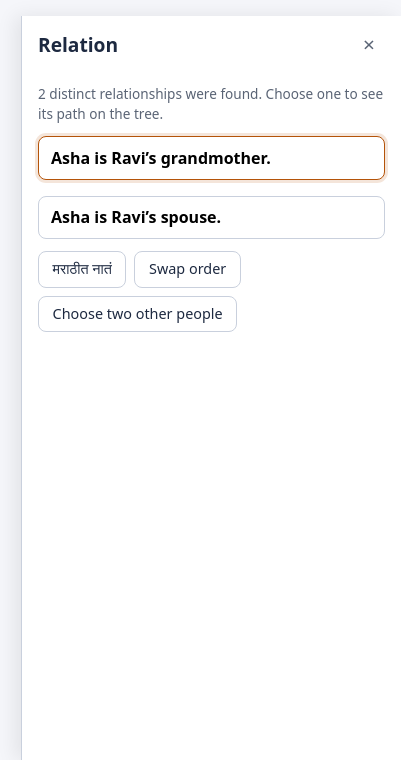
Test: Marathi relationship names › shows each result's Marathi name only after the button is pressed
Expected: the text "आजी" is not shown
Click the button "मराठीत नातं": (82, 270) 38,251 -> 126,288
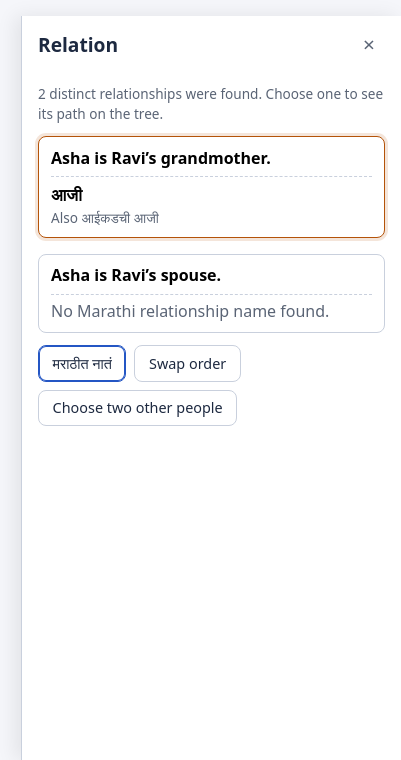
Now the text "आईकडची आजी" is shown, box 82,208 -> 159,227
Now the text "No Marathi relationship name found." is shown, box 51,294 -> 372,323
Click the button "मराठीत नातं": (82, 364) 38,345 -> 126,382
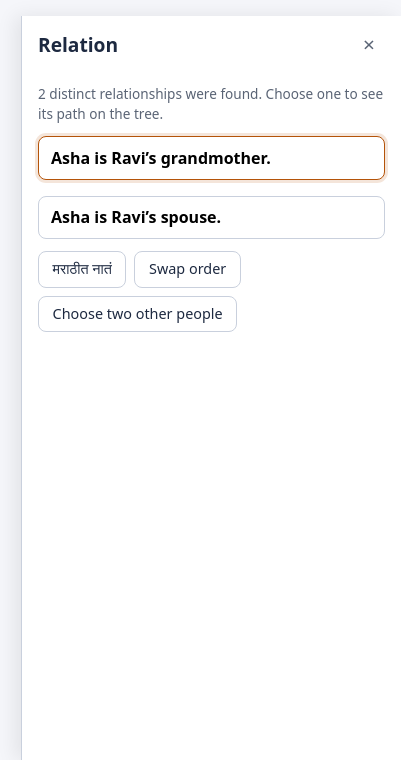
Now the text "आजी" is gone
